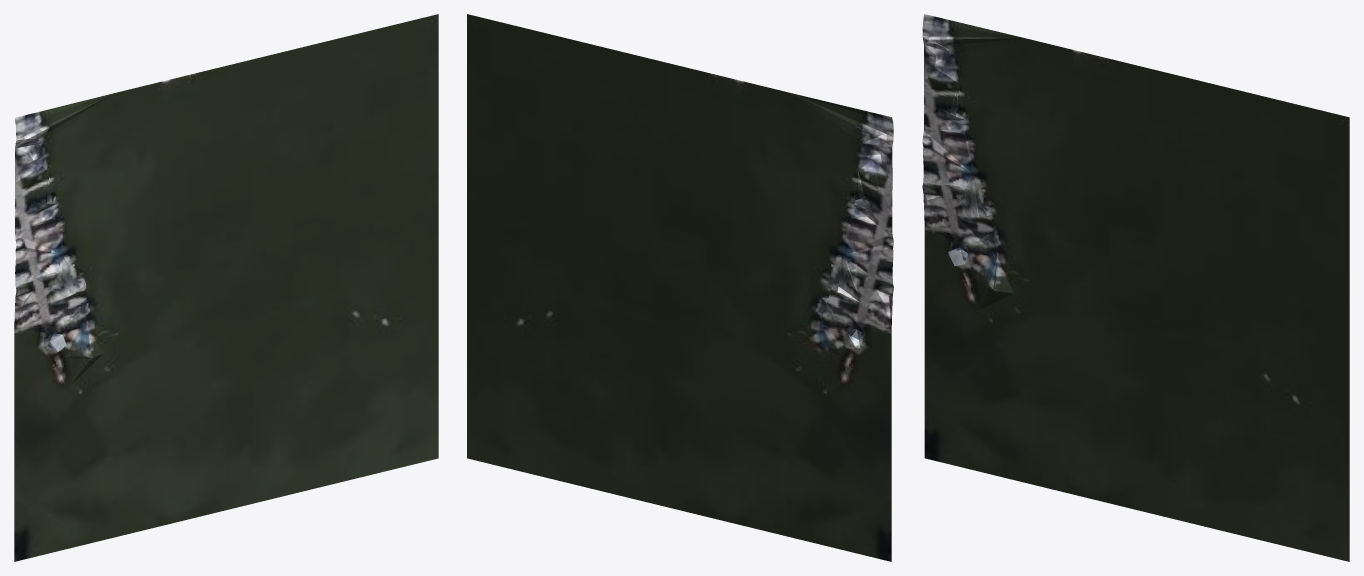
The model's file is Tile_+034_+024_L17_0002.glb.
The picture shows the model from 3 angles, left to right: view 1: azimuth 30°, elevation 25°; view 2: azimuth 150°, elevation 25°; view 3: azimuth 330°, elevation 25°; orthographic projection.
Size of the model in its own units: 126 by 126 by 3.68.
1 material, 1 textured.
